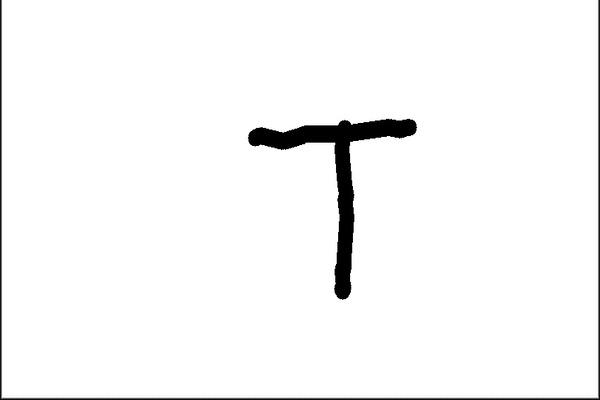T: (245, 114, 419, 301)
